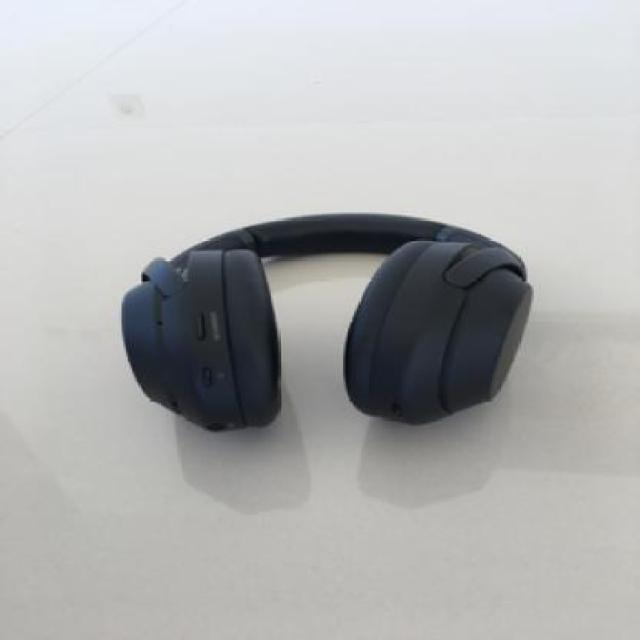earphone: (88, 83, 615, 487)
